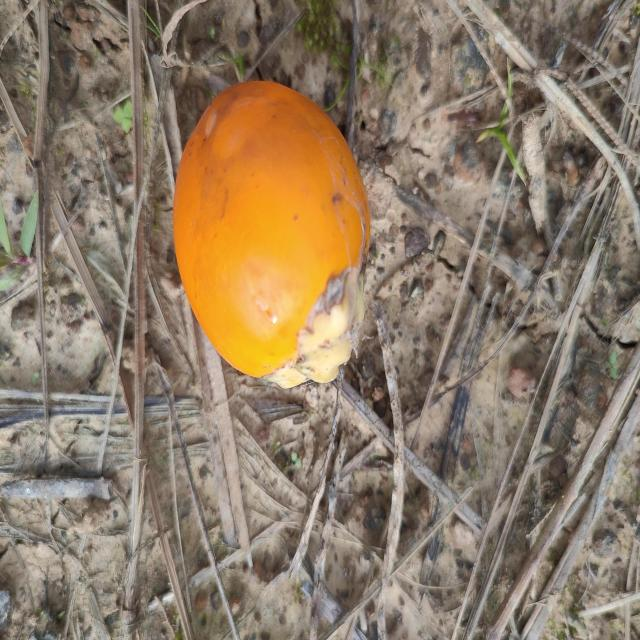good: (173, 81, 371, 382)
